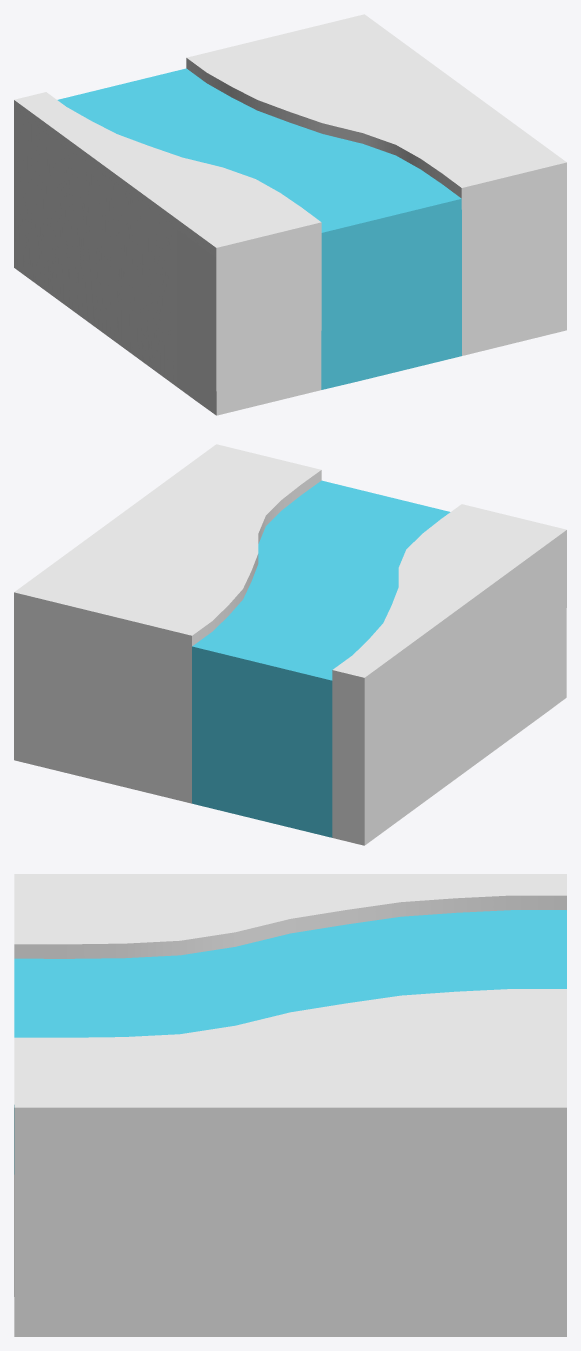
The model's file is miti1.fbx.
The picture shows the model from 3 angles, top to bottom: view 1: azimuth 30°, elevation 25°; view 2: azimuth 150°, elevation 25°; view 3: azimuth 270°, elevation 25°; orthographic projection. The views are drawn at different scales.
Visible parts, largest first — view 1: pCube1; view 2: pCube1; view 3: pCube1.
Part boxes in pixels (box(x1,y1,x2,y2)): pCube1: box(14, 14, 566, 415); pCube1: box(14, 444, 566, 845); pCube1: box(14, 874, 566, 1336).
Bounding box in the file's own units: 24.03 × 11 × 24.05.
